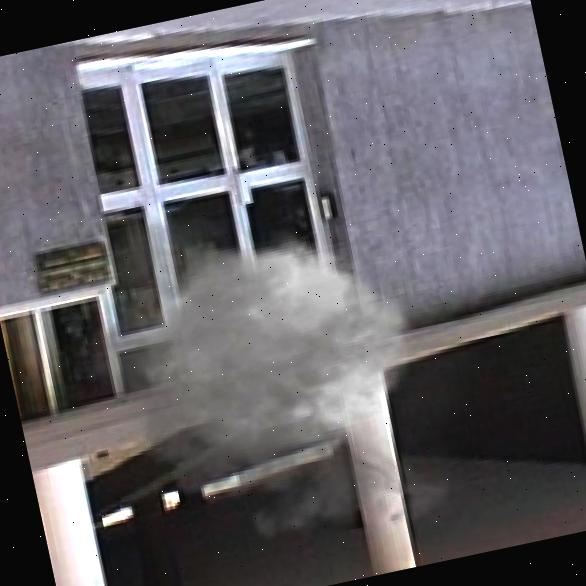smoke: (32, 141, 526, 586)
